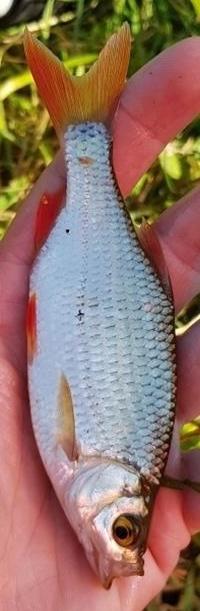Scardinius erythrophthalmus: (20, 20, 180, 591)
